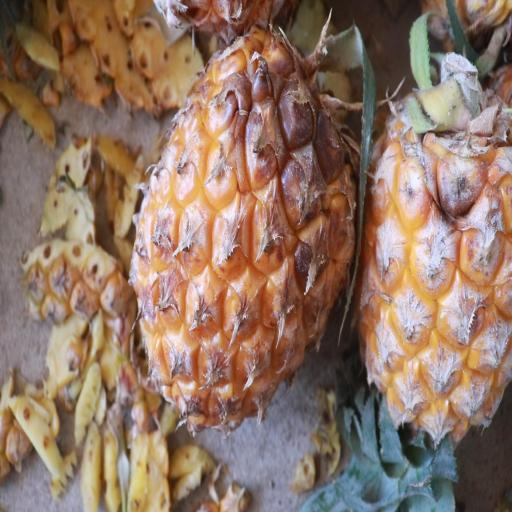Pineapple - v8 v1: (132, 14, 366, 438), (355, 63, 512, 487)
